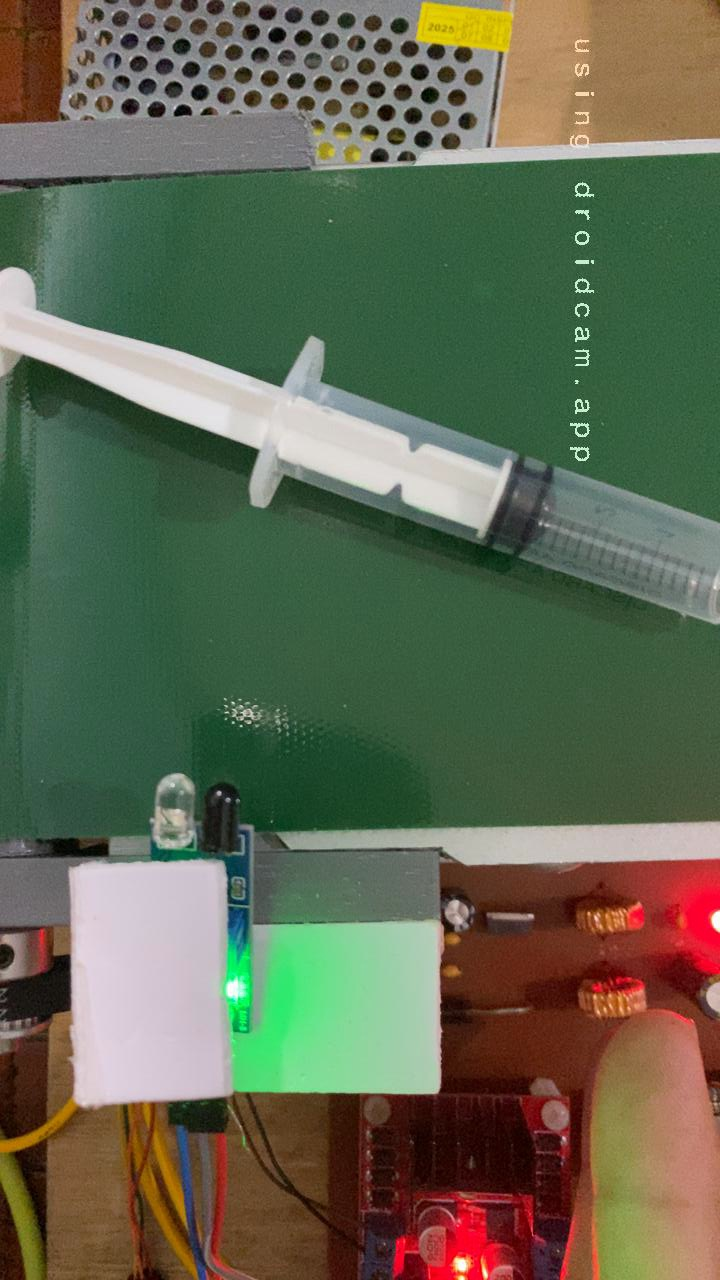syringe: (0, 260, 720, 633)
